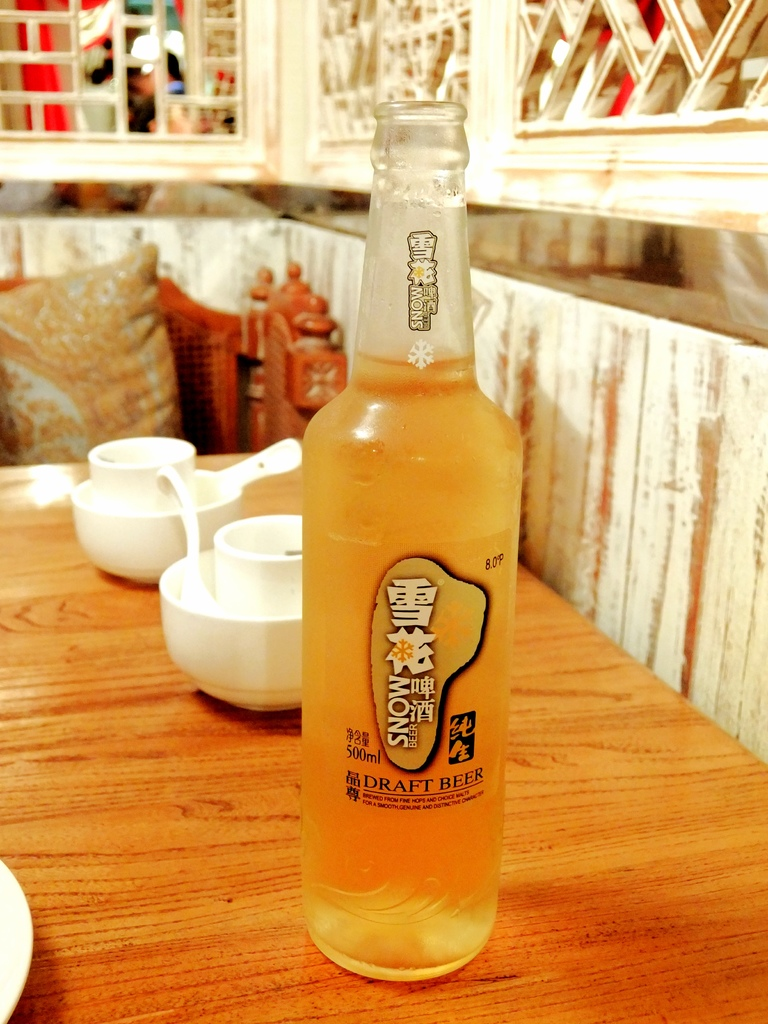Beer: (302, 351, 518, 972)
